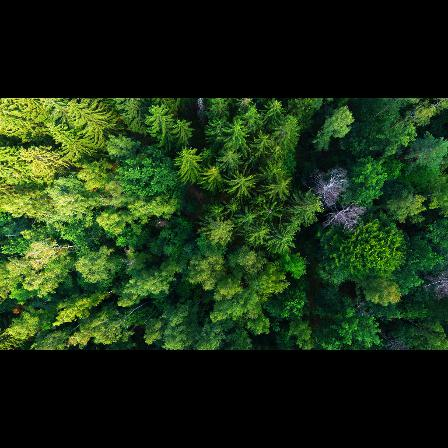Dead: (322, 207, 367, 234), (308, 176, 346, 204), (192, 98, 210, 129)
